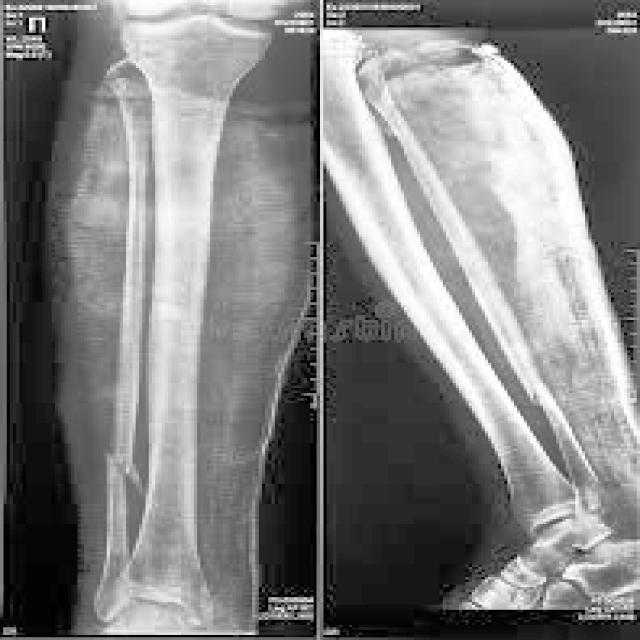Comminuted Fracture: (108, 434, 149, 504), (518, 371, 559, 414)
